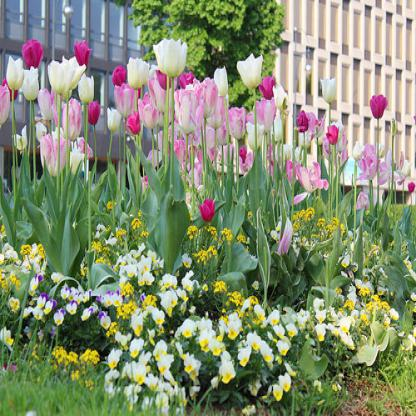TULIP: (2, 16, 409, 232)
